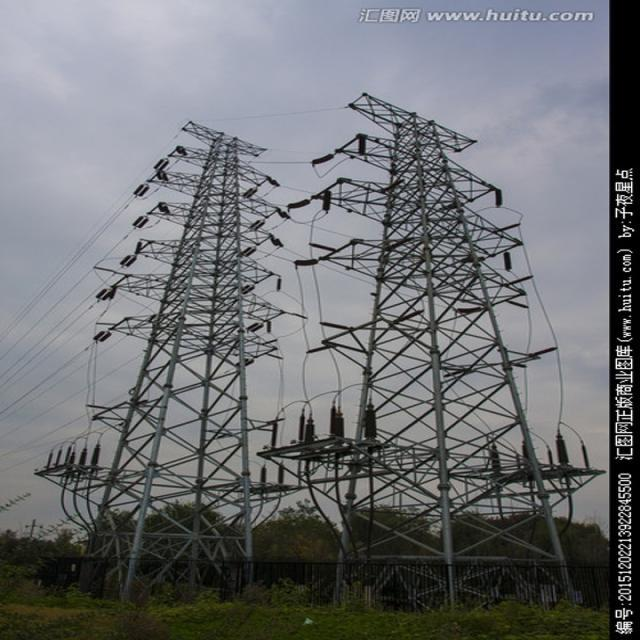non-critical vegetation: (280, 87, 601, 606), (70, 114, 292, 598)
